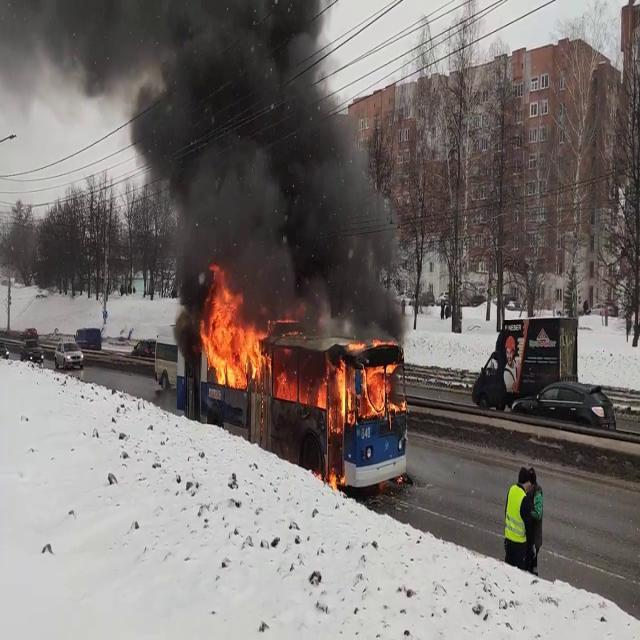Fire: (196, 276, 272, 390), (322, 354, 398, 429)
Smoke: (70, 0, 412, 324)
